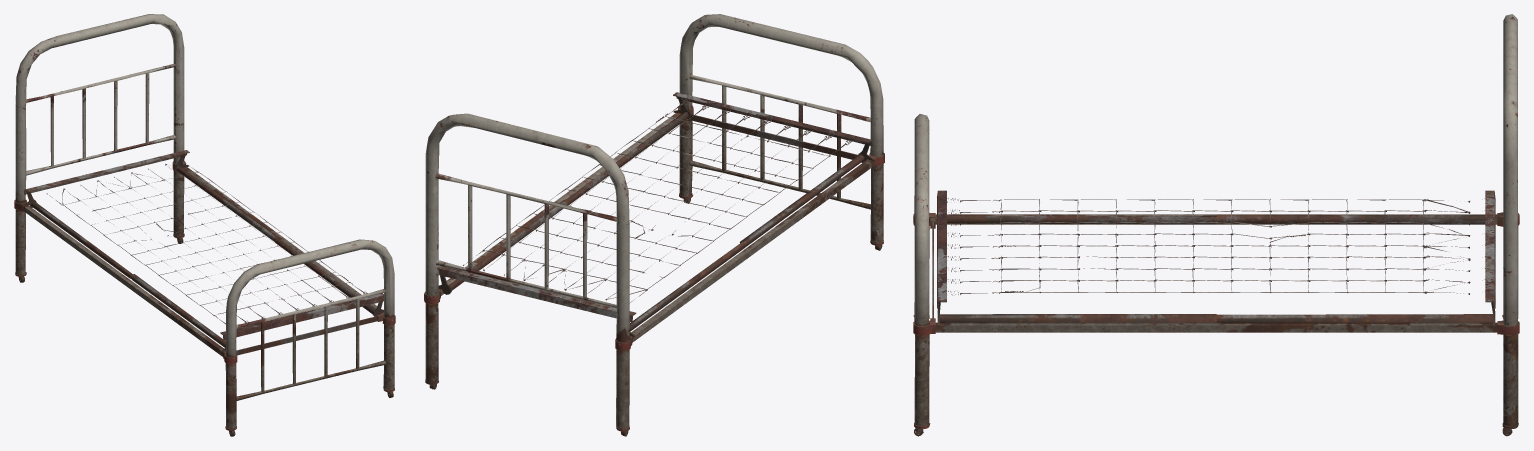
File: old_bed_frame.glb
The picture shows the model from 3 angles, left to right: view 1: azimuth 30°, elevation 25°; view 2: azimuth 150°, elevation 25°; view 3: azimuth 270°, elevation 25°; orthographic projection. The views are drawn at different scales.
Parts seen in each view (by area): view 1: old_bed_frame; view 2: old_bed_frame; view 3: old_bed_frame.
Boxes of the visible parts, x1,y1,x2,y2 form: old_bed_frame: (14, 14, 395, 436); old_bed_frame: (424, 14, 884, 436); old_bed_frame: (913, 14, 1519, 436).
Bounding box in the file's own units: 0.9047 × 1.2 × 2.
1 material, 1 textured.
